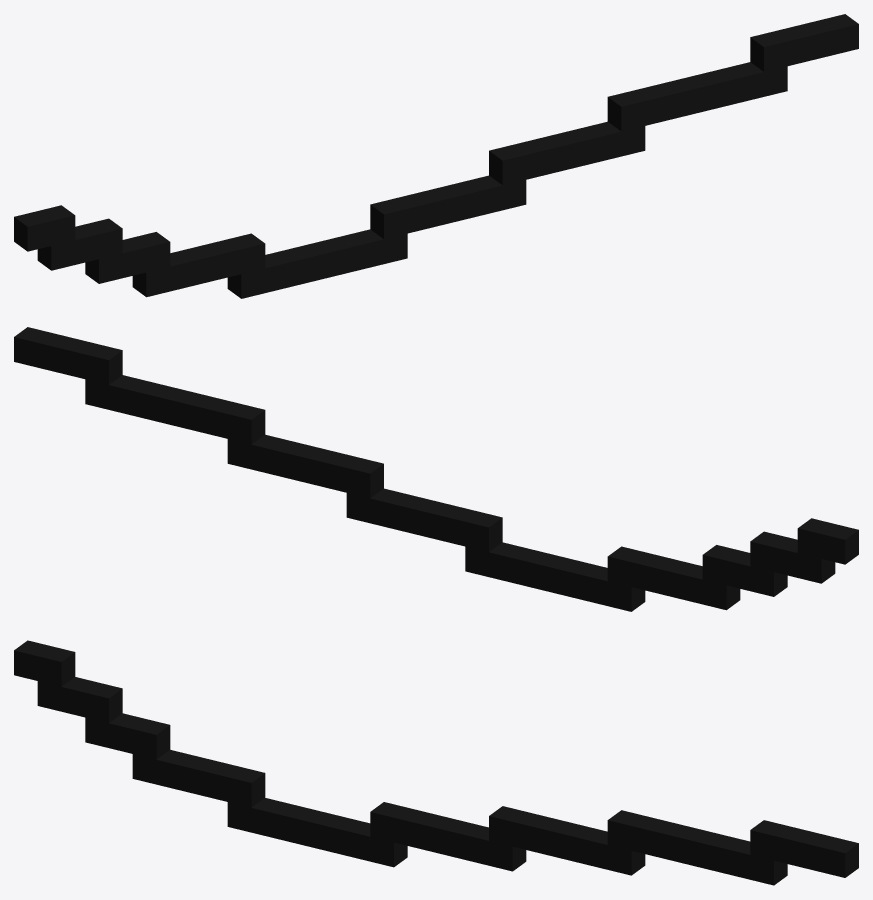
File: wires.obj
3 views of the same model, one above another, from view 1: azimuth 30°, elevation 25°; view 2: azimuth 150°, elevation 25°; view 3: azimuth 330°, elevation 25° (orthographic).
Size of the model in its own units: 3.5 by 0.5 by 0.1.
Materials: 1 (1 with a texture image).
